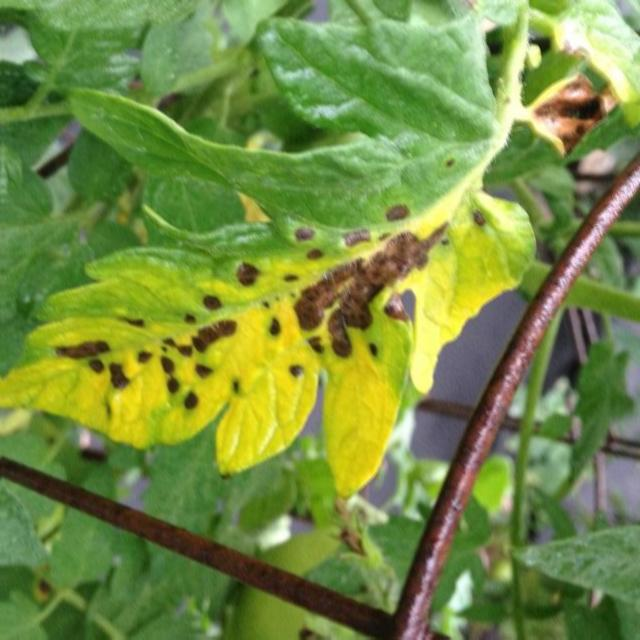Tomato leaf bacterial spot: (0, 160, 550, 501)
